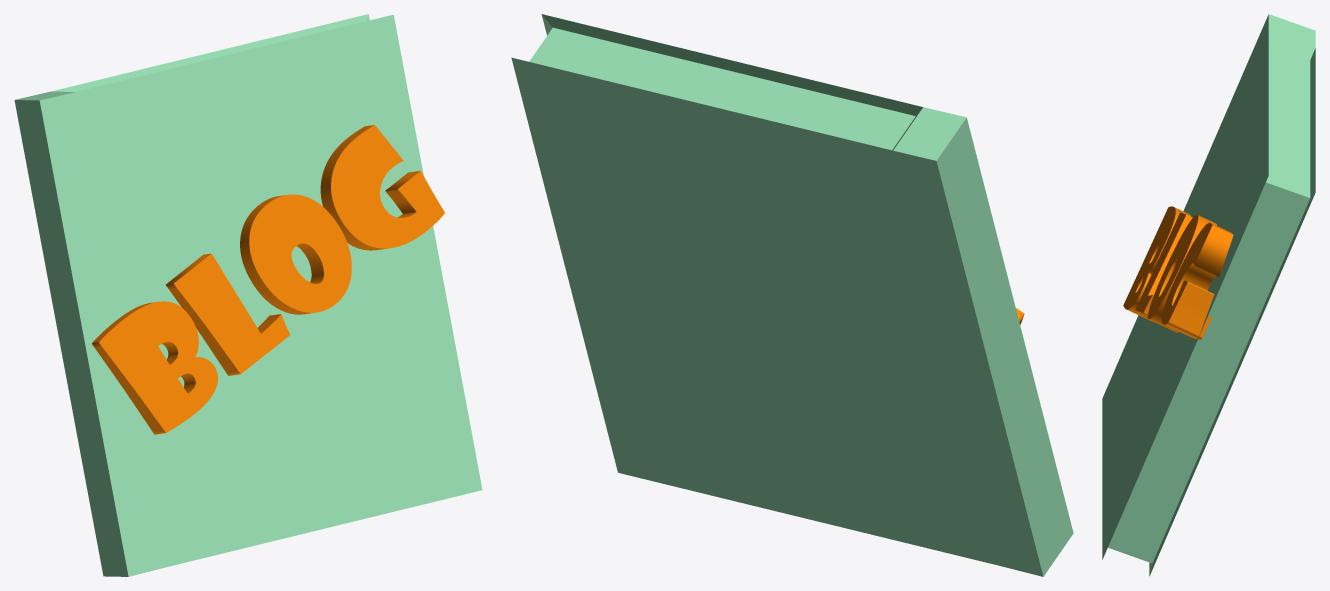
The model's file is WEB3_MENU_MAIN_B.gltf.
3 renders of one model, left to right at view 1: azimuth 30°, elevation 25°; view 2: azimuth 150°, elevation 25°; view 3: azimuth 270°, elevation 25°, orthographic. The views are drawn at different scales.
Visible parts, largest first — view 1: Cube.002, Text.004; view 2: Cube.002; view 3: Cube.002, Text.004.
Part boxes in pixels (x1=…): Cube.002: x1=14, y1=14, x2=482, y2=576; Text.004: x1=92, y1=125, x2=444, y2=434; Cube.002: x1=511, y1=14, x2=1073, y2=576; Cube.002: x1=1102, y1=14, x2=1315, y2=576; Text.004: x1=1123, y1=206, x2=1233, y2=339.
Bounding box in the file's own units: 0.4501 × 0.5216 × 0.2513.
